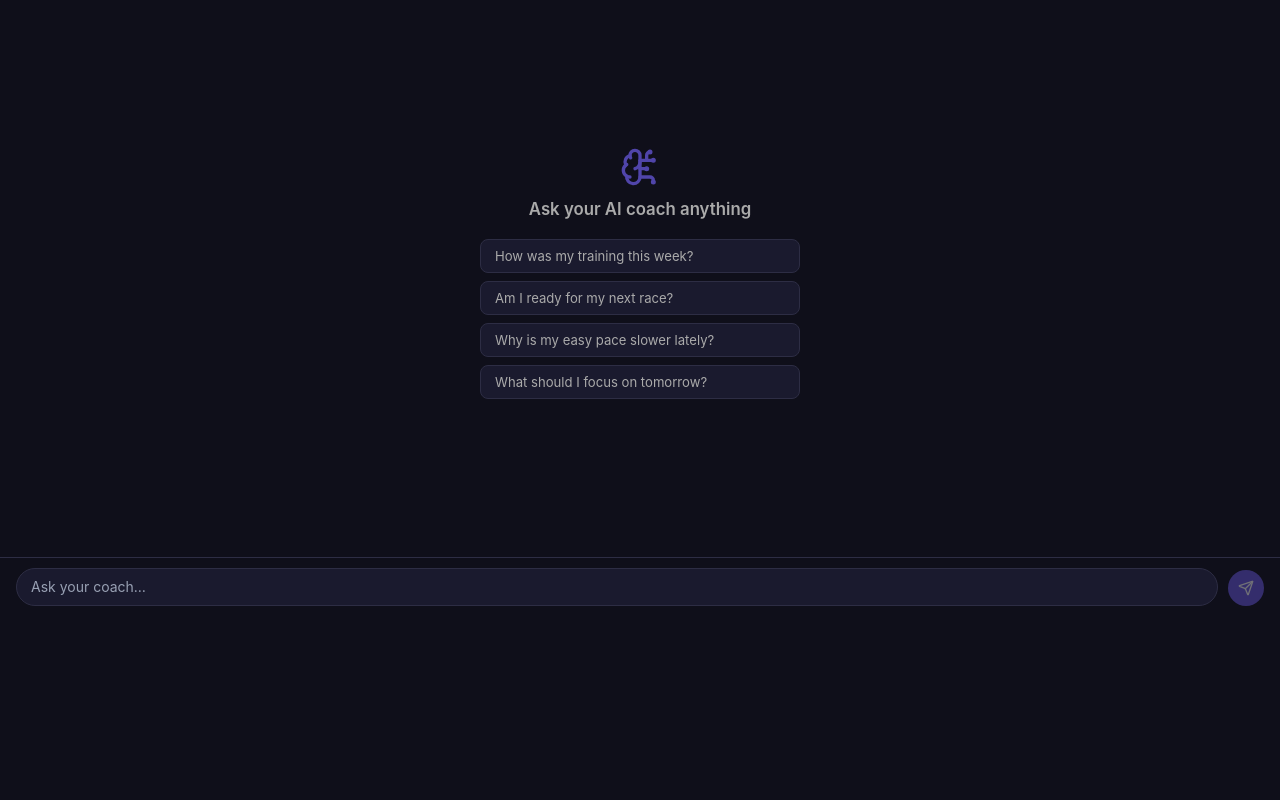
ChatView › sends a hint prompt as a message and renders the streamed reply with its action chip
This screenshot has width=1280, height=800.
Click the button "How was my training this week?" at coordinates (640, 256), box [480,238,800,272]
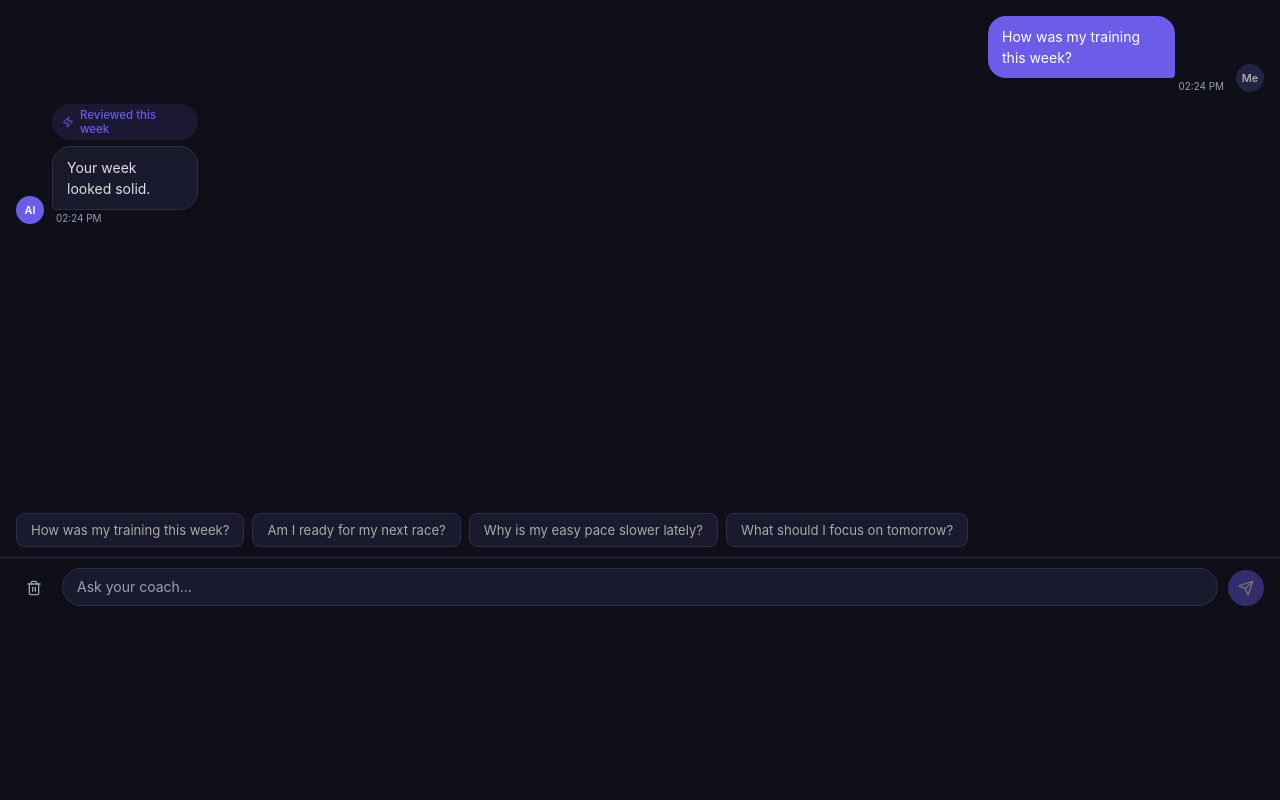
Check: the text "Your week looked solid." is shown, box [67,159,150,197]
Check: the text "Reviewed this week" is shown, box [52,104,198,140]
Check: the text "How was my training this week?" is shown, box [988,16,1175,78]
